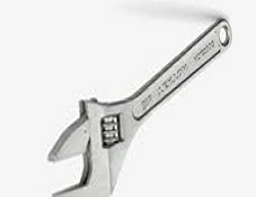Wrench: (43, 19, 240, 197)
